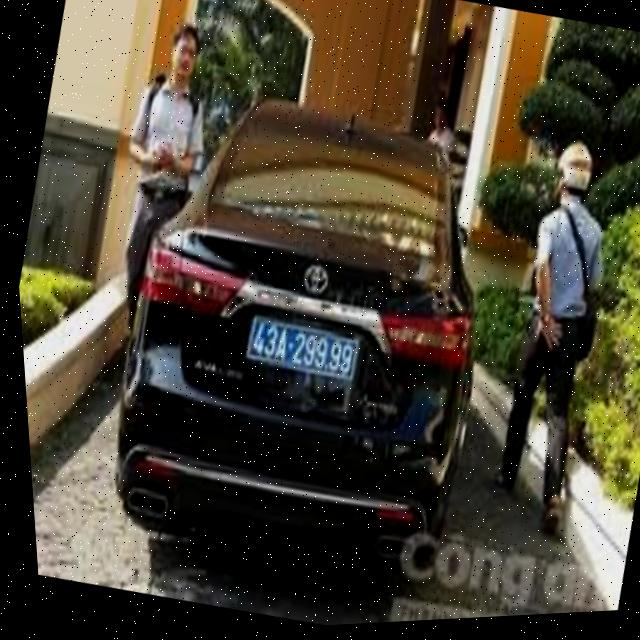car: (78, 66, 543, 599)
plate: (232, 301, 370, 397)
